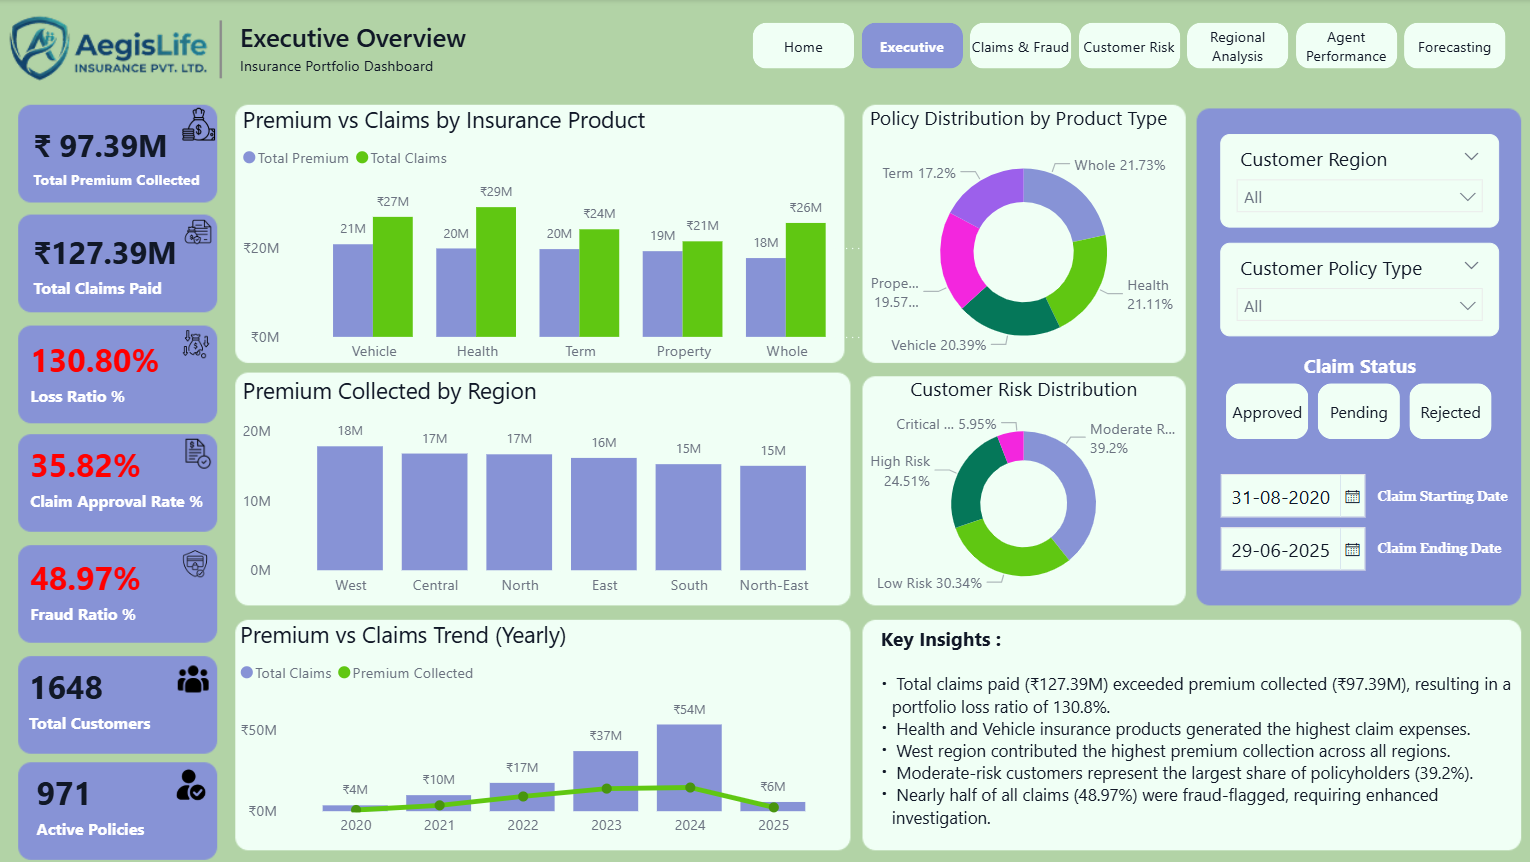

The page's visual inventory and layout, read from the dashboard file:
{"tool":"powerbi","page":{"name":"Executive","canvas":[1280,720],"ordinal":1},"visuals":[{"type":"slicer","fields":{"Values":["aegis_database master_insurance_analytics.Customer_Region"]},"box":[1016.3,111.6,231.4,77.9],"z":0},{"type":"slicer","fields":{"Values":["aegis_database master_insurance_analytics.Customer_Policy_Type"]},"box":[1016.3,201.7,231.4,77.9],"z":1000},{"type":"advancedSlicerVisual","fields":{"Values":["aegis_database master_insurance_analytics.Claim_Status"]},"box":[1016.3,291.9,231.4,77.9],"z":2000},{"type":"slicer","fields":{"Values":["aegis_database master_insurance_analytics.Claim_Date"]},"box":[1004.7,383.7,152.3,100],"z":3000},{"type":"cardVisual","fields":{"Data":["Measure_Table.Total Premium"]},"box":[15.4,58.9,206.1,143.4],"z":4000},{"type":"cardVisual","fields":{"Data":["Measure_Table.Claim Approval Rate %"]},"box":[1.3,343.1,221.5,107.5],"z":5000},{"type":"cardVisual","fields":{"Data":["Measure_Table.Fraud Ratio %"]},"box":[1.3,437.8,169,103.7],"z":6000},{"type":"cardVisual","fields":{"Data":["Measure_Table.Loss Ratio %"]},"box":[1.3,250.9,169,116.5],"z":7000},{"type":"cardVisual","fields":{"Data":["Measure_Table.Total Customers"]},"box":[0,513.4,180.5,134.4],"z":8000},{"type":"cardVisual","fields":{"Data":["Measure_Table.Total Claims Paid"]},"box":[15.4,160,178,120.3],"z":9000},{"type":"clusteredColumnChart","title":"Premium vs Claims by Insurance Product","fields":{"Category":["aegis_database master_insurance_analytics.Customer_Policy_Type"],"Y":["Measure_Table.Total Premium Collected","Measure_Table.Total Claims Paid"]},"box":[201.2,87.2,530.2,223.3],"z":10000},{"type":"lineClusteredColumnComboChart","title":"Premium vs Claims Trend (Yearly)","fields":{"Y":["Measure_Table.Total Claims Paid"],"Category":["Date_Table.Year"],"Y2":["Measure_Table.Total Premium Collected"]},"box":[198.8,514,508.1,189.5],"z":11000},{"type":"donutChart","title":"Policy Distribution by Product Type","fields":{"Y":["Measure_Table.Active Policies"],"Category":["aegis_database master_insurance_analytics.Customer_Policy_Type"]},"box":[720.9,87.2,265.1,224.4],"z":12000},{"type":"columnChart","title":"Premium Collected by Region","fields":{"Category":["aegis_database master_insurance_analytics.Customer_Region"],"Y":["Measure_Table.Total Premium Collected"]},"box":[201.2,311.6,507,191.9],"z":13000},{"type":"donutChart","title":"Customer Risk Distribution","fields":{"Y":["Measure_Table.Total Customers"],"Category":["aegis_database master_insurance_analytics.Customer_Risk_Segment"]},"box":[720.9,311.6,265.1,191.9],"z":14000},{"type":"textbox","box":[198.8,11.6,234.9,60.5],"z":15000},{"type":"textbox","box":[1141.9,396.5,123.3,50],"z":16000},{"type":"textbox","box":[1141.9,440.7,123.3,50],"z":17000},{"type":"textbox","box":[720.9,514,544.2,205.8],"z":18000},{"type":"image","box":[151.2,90,37.1,27.1],"z":19000},{"type":"image","box":[152.4,182.4,33.5,21.8],"z":20000},{"type":"image","box":[152.4,274.7,30.6,22.9],"z":21000},{"type":"image","box":[151.2,363.5,35.9,26.5],"z":22000},{"type":"image","box":[152.4,457.1,29.4,22.4],"z":23000},{"type":"image","box":[143.3,635.8,41.7,30.6],"z":24000},{"type":"cardVisual","fields":{"Data":["Measure_Table.Active Policies"]},"box":[6.4,619.6,180.5,96],"z":25000},{"type":"image","box":[152.3,546.5,25.6,34.9],"z":26000},{"type":"pageNavigator","box":[628.8,20,627.5,38.8],"z":27000}]}

Visuals, with their boxes in screenshot pixels (x1, y1, x2, y2), scaled from the page's 1280x720 canvas onto the 1530x862 screenshot:
slicer - aegis_database master_insurance_analytics.Customer_Region: locate(1215, 134, 1491, 227)
slicer - aegis_database master_insurance_analytics.Customer_Policy_Type: locate(1215, 241, 1491, 335)
advancedSlicerVisual - aegis_database master_insurance_analytics.Claim_Status: locate(1215, 349, 1491, 443)
slicer - aegis_database master_insurance_analytics.Claim_Date: locate(1201, 459, 1383, 579)
cardVisual - Measure_Table.Total Premium: locate(18, 71, 265, 242)
cardVisual - Measure_Table.Claim Approval Rate %: locate(2, 411, 266, 539)
cardVisual - Measure_Table.Fraud Ratio %: locate(2, 524, 204, 648)
cardVisual - Measure_Table.Loss Ratio %: locate(2, 300, 204, 440)
cardVisual - Measure_Table.Total Customers: locate(0, 615, 216, 776)
cardVisual - Measure_Table.Total Claims Paid: locate(18, 192, 231, 336)
"Premium vs Claims by Insurance Product" clusteredColumnChart: locate(240, 104, 874, 372)
"Premium vs Claims Trend (Yearly)" lineClusteredColumnComboChart: locate(238, 615, 845, 842)
"Policy Distribution by Product Type" donutChart: locate(862, 104, 1179, 373)
"Premium Collected by Region" columnChart: locate(240, 373, 847, 603)
"Customer Risk Distribution" donutChart: locate(862, 373, 1179, 603)
textbox: locate(238, 14, 518, 86)
textbox: locate(1365, 475, 1512, 535)
textbox: locate(1365, 528, 1512, 587)
textbox: locate(862, 615, 1512, 861)
image: locate(181, 108, 225, 140)
image: locate(182, 218, 222, 244)
image: locate(182, 329, 219, 356)
image: locate(181, 435, 224, 467)
image: locate(182, 547, 217, 574)
image: locate(171, 761, 221, 798)
cardVisual - Measure_Table.Active Policies: locate(8, 742, 223, 857)
image: locate(182, 654, 213, 696)
pageNavigator: locate(752, 24, 1502, 70)
